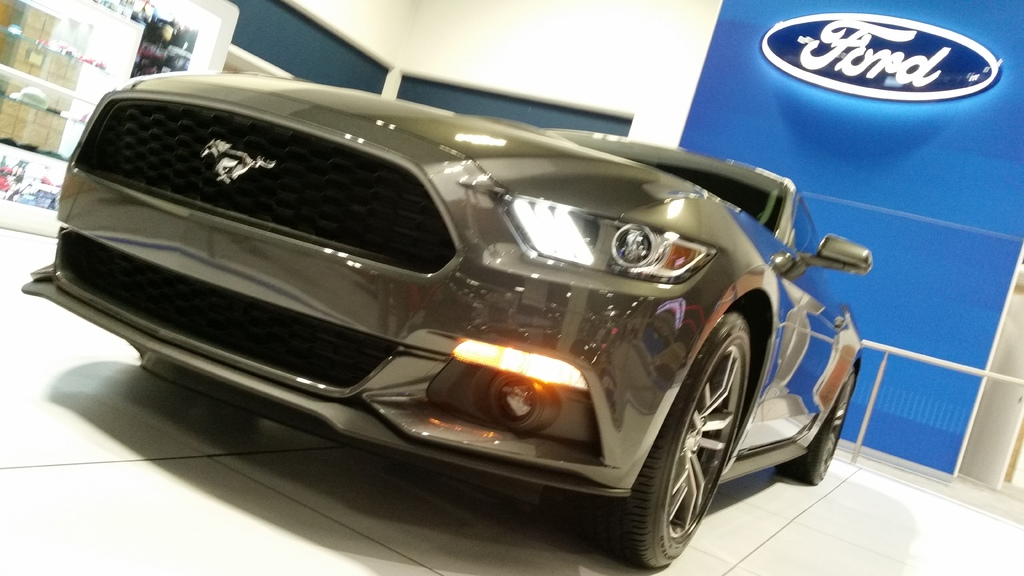Car: (18, 66, 864, 568)
